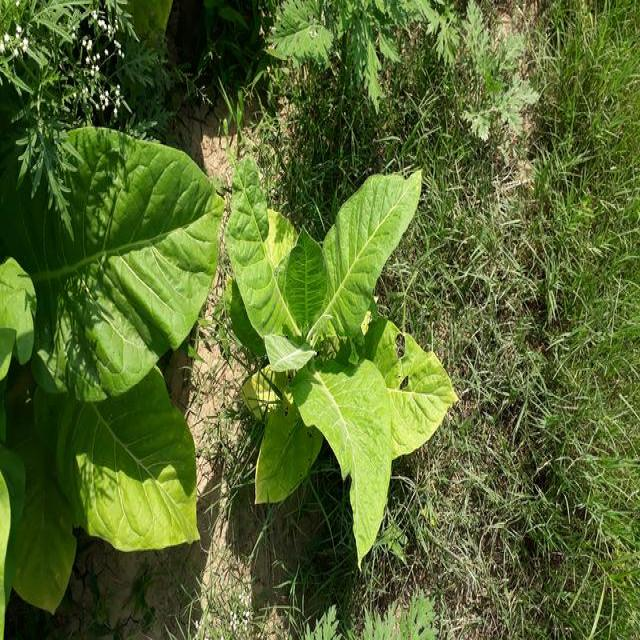crop: (18, 145, 210, 592), (232, 175, 435, 557)
